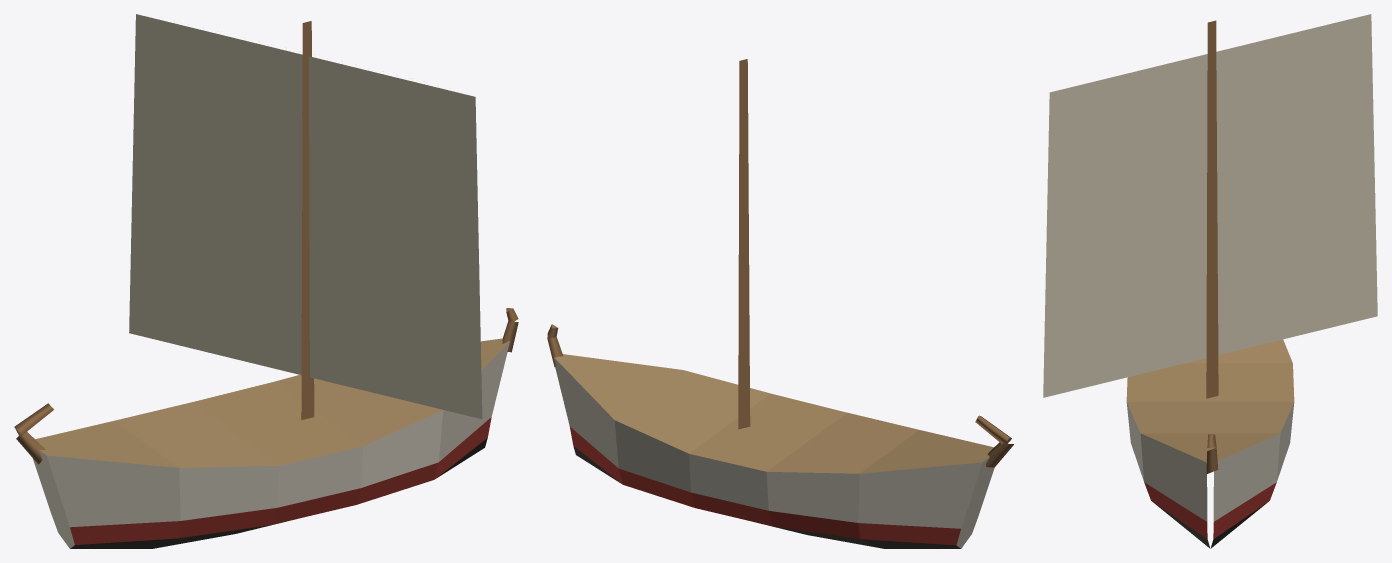
The model's file is hull_usd_coaster_small_lod.glb.
3 renders of one model, left to right at view 1: azimuth 30°, elevation 25°; view 2: azimuth 150°, elevation 25°; view 3: azimuth 270°, elevation 25°, orthographic. The views are drawn at different scales.
Visible parts, largest first — view 1: lod; view 2: lod; view 3: lod.
Boxes of the visible parts, x1,y1,x2,y2 form: lod: (14,14,518,548); lod: (547,59,1013,548); lod: (1043,14,1377,548).
Size of the model in its own units: 10.66 by 10.05 by 6.49.
